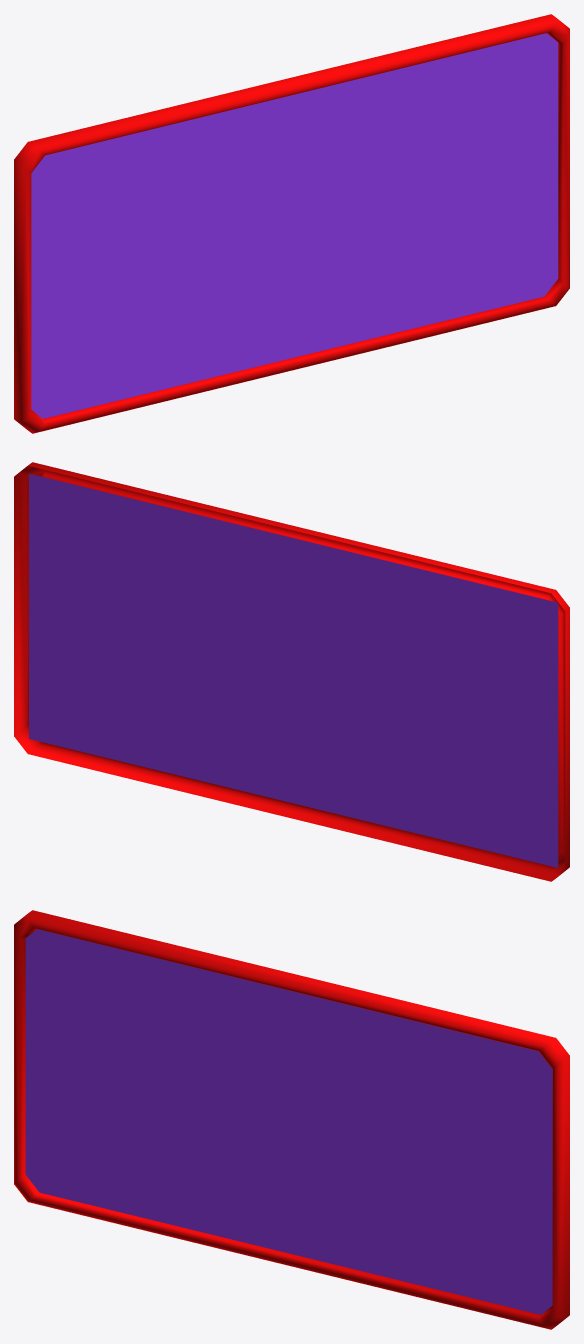
Rendered from Ecran_geant_low.FBX.
3 views of the same model, one above another, from view 1: azimuth 30°, elevation 25°; view 2: azimuth 150°, elevation 25°; view 3: azimuth 330°, elevation 25° (orthographic).
Parts seen in each view (by area): view 1: Shader, Ecran_Low; view 2: Shader, Ecran_Low; view 3: Shader, Ecran_Low.
Boxes of the visible parts, bbox=[...] form: Shader: bbox=[31, 33, 558, 418]; Ecran_Low: bbox=[14, 14, 569, 433]; Shader: bbox=[29, 473, 558, 867]; Ecran_Low: bbox=[14, 462, 569, 881]; Shader: bbox=[25, 929, 552, 1314]; Ecran_Low: bbox=[14, 910, 569, 1329].
Size of the model in its own units: 2000 by 1000 by 50.
